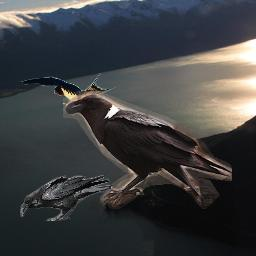Crow: (63, 91, 232, 209), (20, 175, 114, 221)
Swallow: (19, 72, 126, 128)
